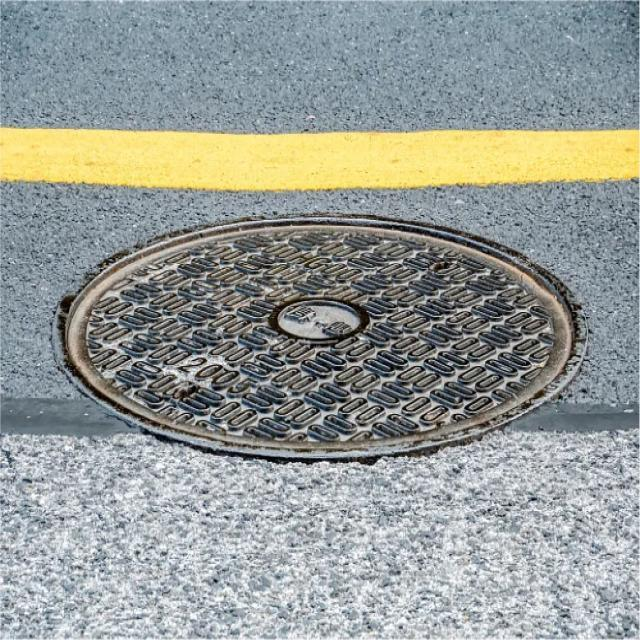manhole: (55, 215, 583, 466)
